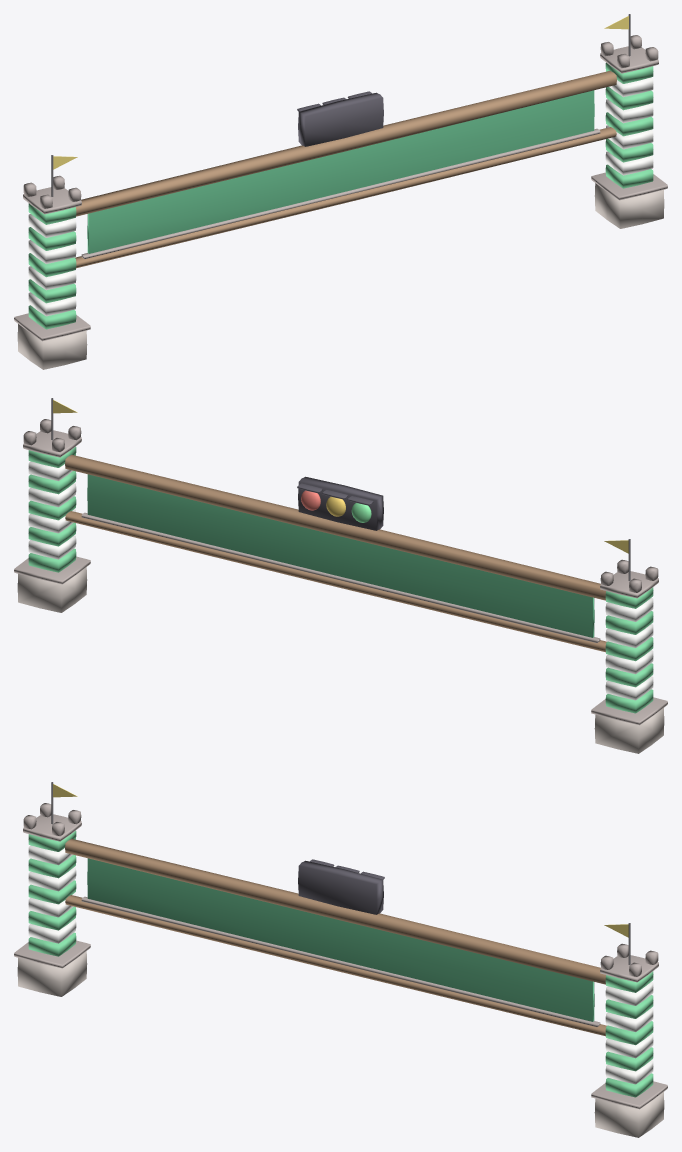
Rendered from SkateStartGate.glb.
The picture shows the model from 3 angles, top to bottom: view 1: azimuth 30°, elevation 25°; view 2: azimuth 150°, elevation 25°; view 3: azimuth 330°, elevation 25°; orthographic projection.
Parts seen in each view (by area): view 1: Banner, Beam, Trim, StripeA, StripeB, Stone, Housing; view 2: Banner, Beam, Trim, StripeA, StripeB, Stone, Housing; view 3: Banner, Beam, Trim, StripeA, StripeB, Stone, Housing.
Boxes of the visible parts, x1=… form: Banner: x1=87, y1=90, x2=594, y2=253; Beam: x1=75, y1=71, x2=616, y2=268; Trim: x1=14, y1=35, x2=667, y2=341; StripeA: x1=28, y1=62, x2=653, y2=329; StripeB: x1=28, y1=77, x2=653, y2=316; Stone: x1=17, y1=183, x2=664, y2=369; Housing: x1=297, y1=91, x2=383, y2=146; Banner: x1=87, y1=474, x2=594, y2=637; Beam: x1=65, y1=455, x2=606, y2=652; Trim: x1=14, y1=419, x2=667, y2=725; StripeA: x1=28, y1=446, x2=653, y2=713; StripeB: x1=28, y1=461, x2=653, y2=700; Stone: x1=17, y1=567, x2=664, y2=753; Housing: x1=297, y1=476, x2=383, y2=530; Banner: x1=87, y1=858, x2=594, y2=1021; Beam: x1=65, y1=839, x2=606, y2=1036; Trim: x1=14, y1=803, x2=667, y2=1109; StripeA: x1=28, y1=830, x2=653, y2=1097; StripeB: x1=28, y1=845, x2=653, y2=1084; Stone: x1=17, y1=951, x2=664, y2=1137; Housing: x1=298, y1=859, x2=384, y2=914.
Size of the model in its own units: 124 by 38 by 9.8.
